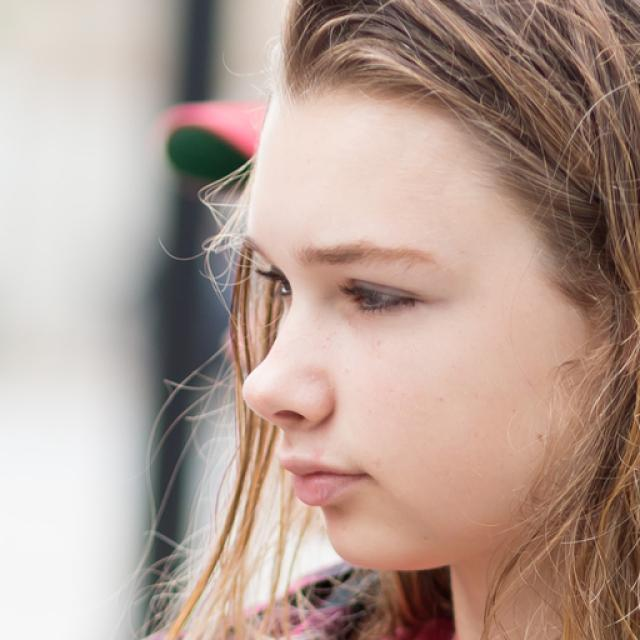sad: (236, 84, 589, 576)
